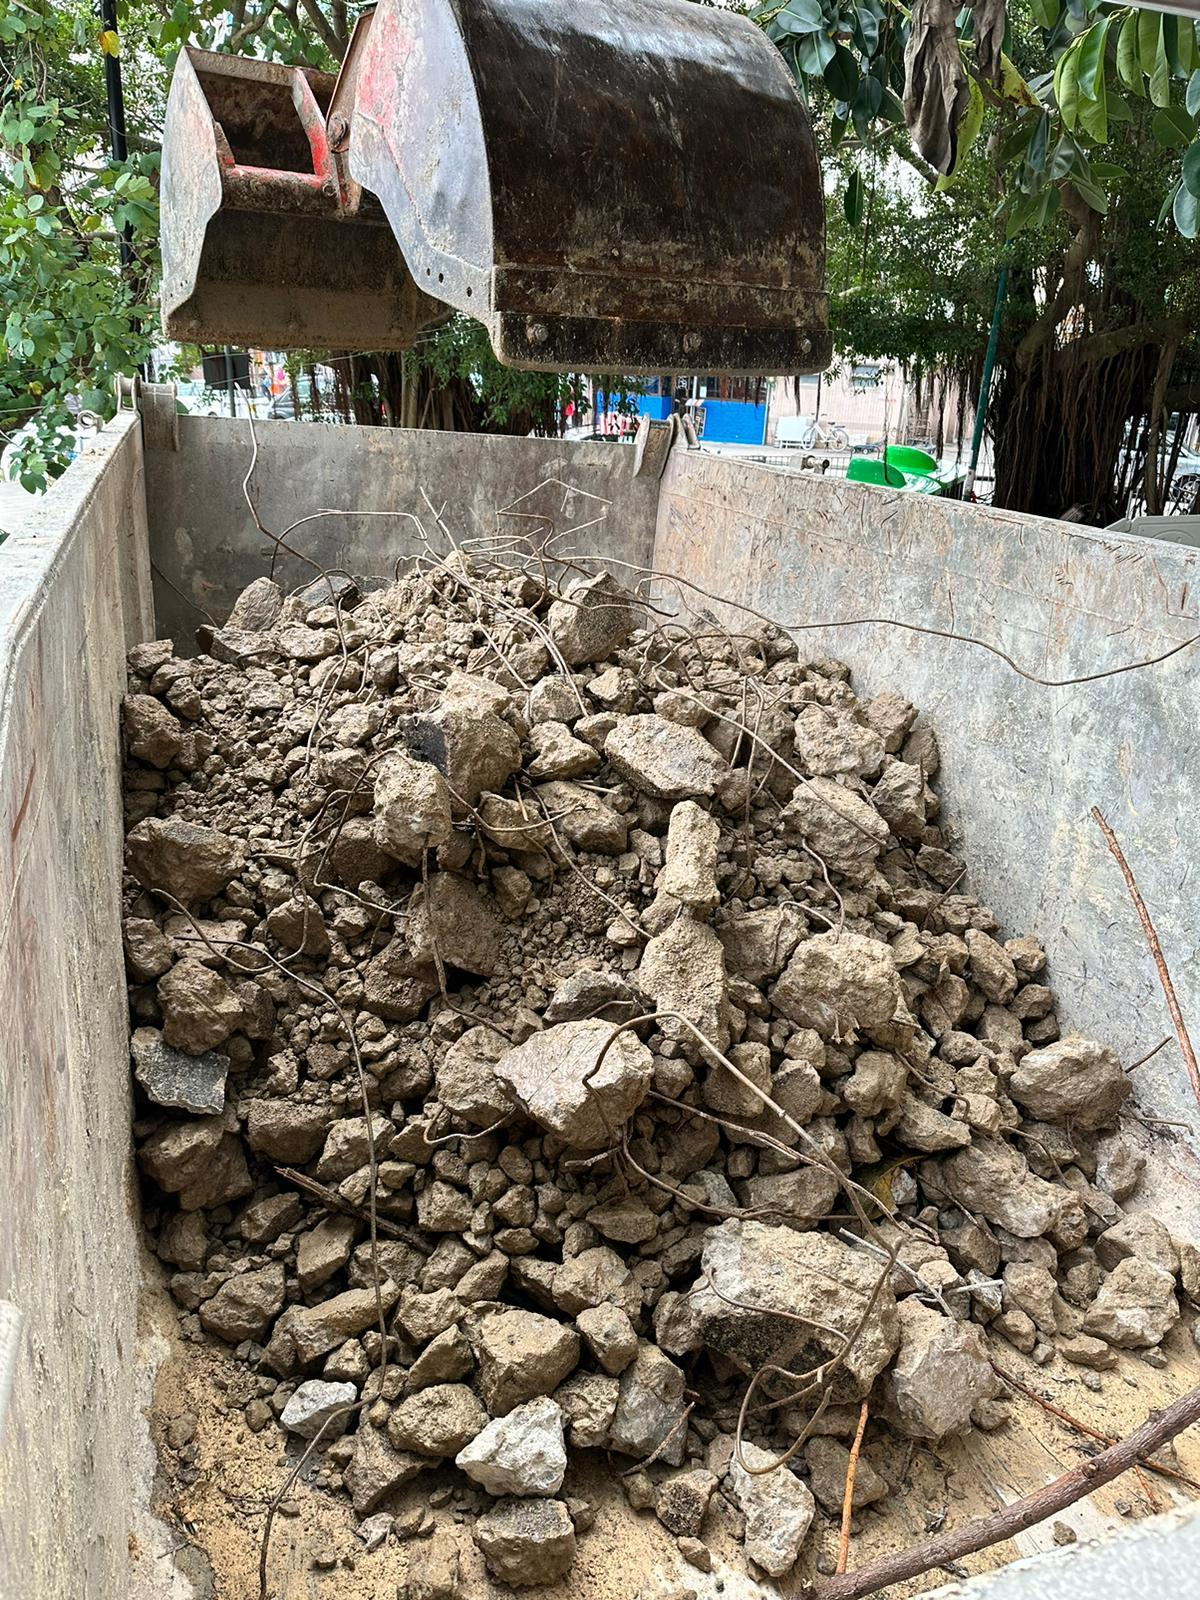dry: (135, 567, 1200, 1565)
